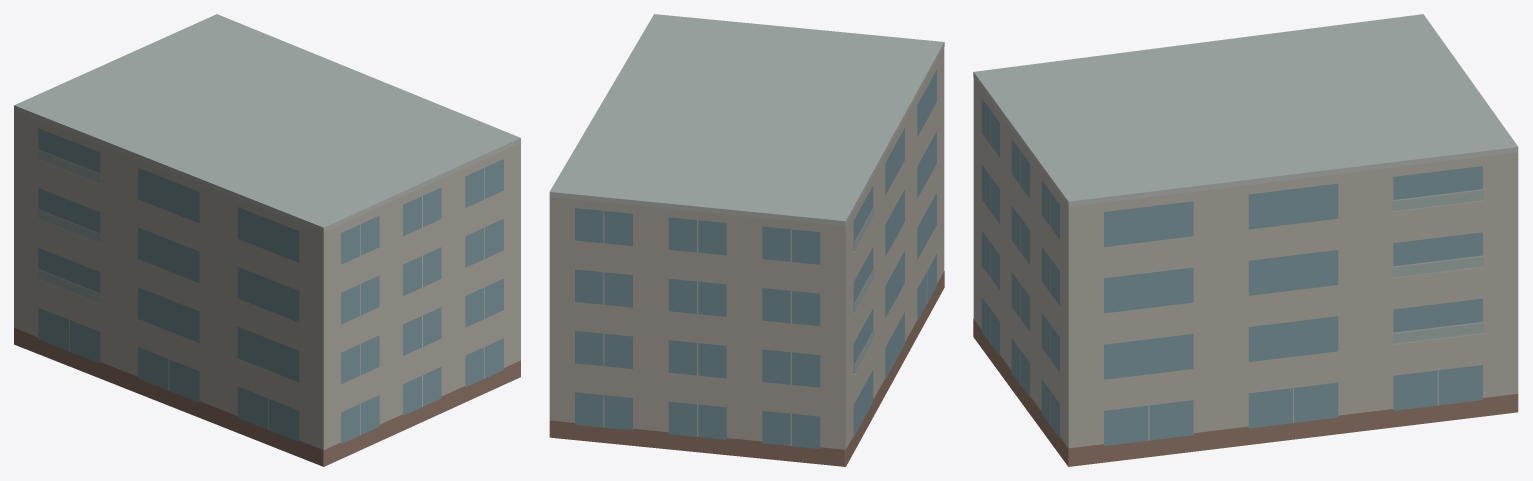
The model's file is survey-upis-32689047.glb.
3 renders of one model, left to right at view 1: azimuth 30°, elevation 25°; view 2: azimuth 150°, elevation 25°; view 3: azimuth 270°, elevation 25°, orthographic. The views are drawn at different scales.
Parts seen in each view (by area): view 1: survey-upis-32689047.tmp; view 2: survey-upis-32689047.tmp; view 3: survey-upis-32689047.tmp.
Boxes of the visible parts, box(x1,y1,x2,y2) form: survey-upis-32689047.tmp: box(14, 14, 520, 466); survey-upis-32689047.tmp: box(549, 14, 944, 466); survey-upis-32689047.tmp: box(973, 14, 1518, 466).
Size of the model in its own units: 18.51 by 12.2 by 22.72.
